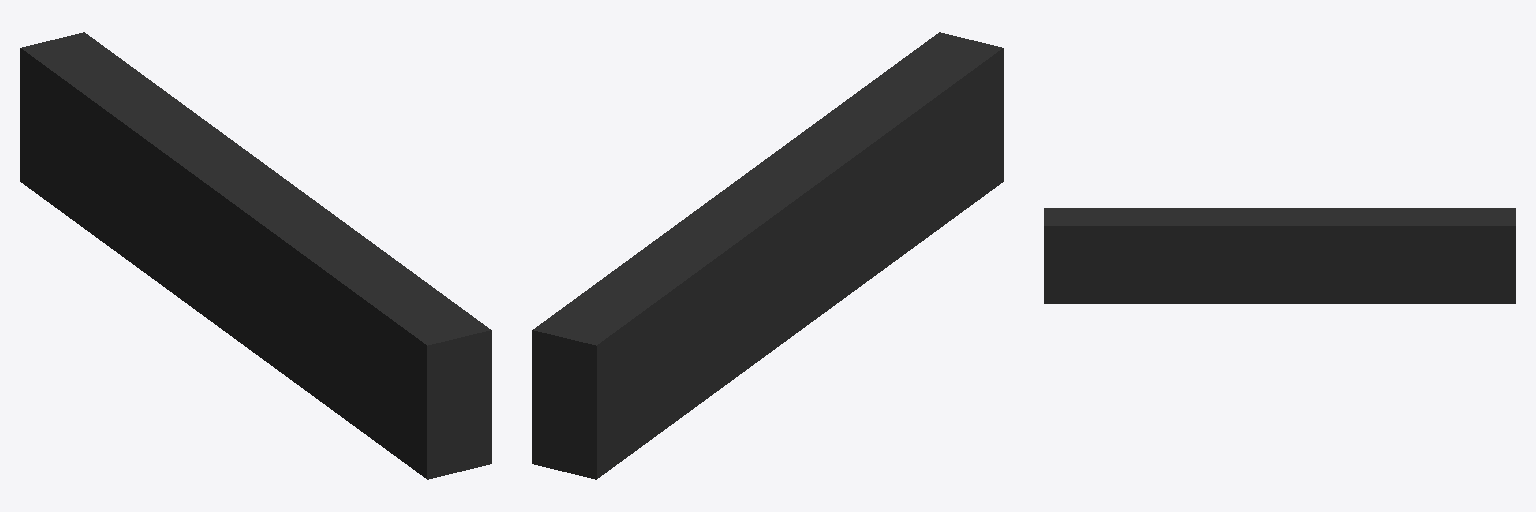
URDF robot description (wall):
<robot name="wall">
  <link name="baseLink">
   
    <inertial>
      <origin rpy="0 0 0" xyz="0 0 0" />
       <mass value="1000.0" />
       <inertia ixx="0" ixy="0" ixz="0" iyy="0" iyz="0" izz="0" />
    </inertial>
    <visual>
      <origin rpy="0 0 0" xyz="0 0 0" />
      <geometry>
			  <box size="1 11 2" />
      </geometry>
       <material name="grey">
        <color rgba="0.24 0.24 0.24 1" />
      </material>
    </visual>
    <collision>
      <origin rpy="0 0 0" xyz="0 0 0" />
      <geometry>
	 	      <box size="1 11 2" />
      </geometry>
    </collision>
  </link>
</robot>

--- What the picture shows (computed from the rendered views, not written in the file) ---
3 views of the same robot in one strip: view 1: azimuth 30°, elevation 25°; view 2: azimuth 150°, elevation 25°; view 3: azimuth 270°, elevation 25° (orthographic).
Model wall with 1 links and 0 joints (none), rooted at baseLink, posed all joints at 0.
Links seen in each view (by area): view 1: baseLink; view 2: baseLink; view 3: baseLink.
Boxes of the visible links, x1,y1,x2,y2 form: baseLink: (20,32,491,479); baseLink: (532,32,1003,479); baseLink: (1044,208,1515,303).
Size in the robot's own frame: 1 by 11 by 2 metres.
Geometry: primitives only (box / cylinder / sphere), no mesh files.